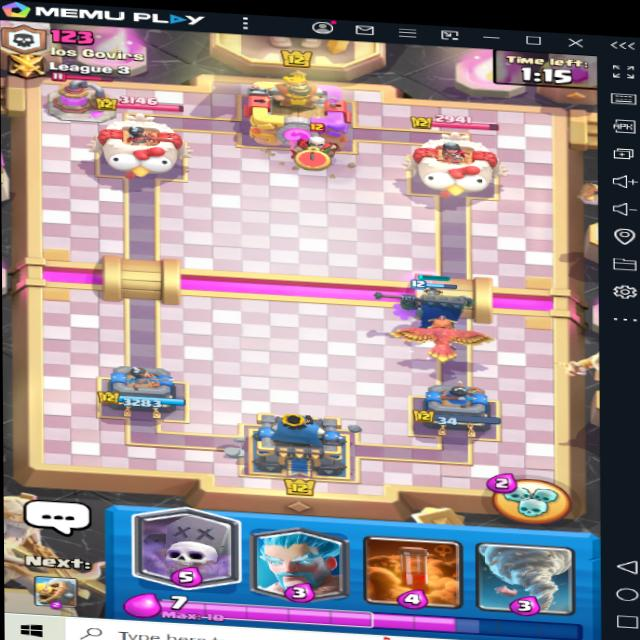Marcher: (291, 127, 345, 175)
Pump: (33, 67, 120, 124)
